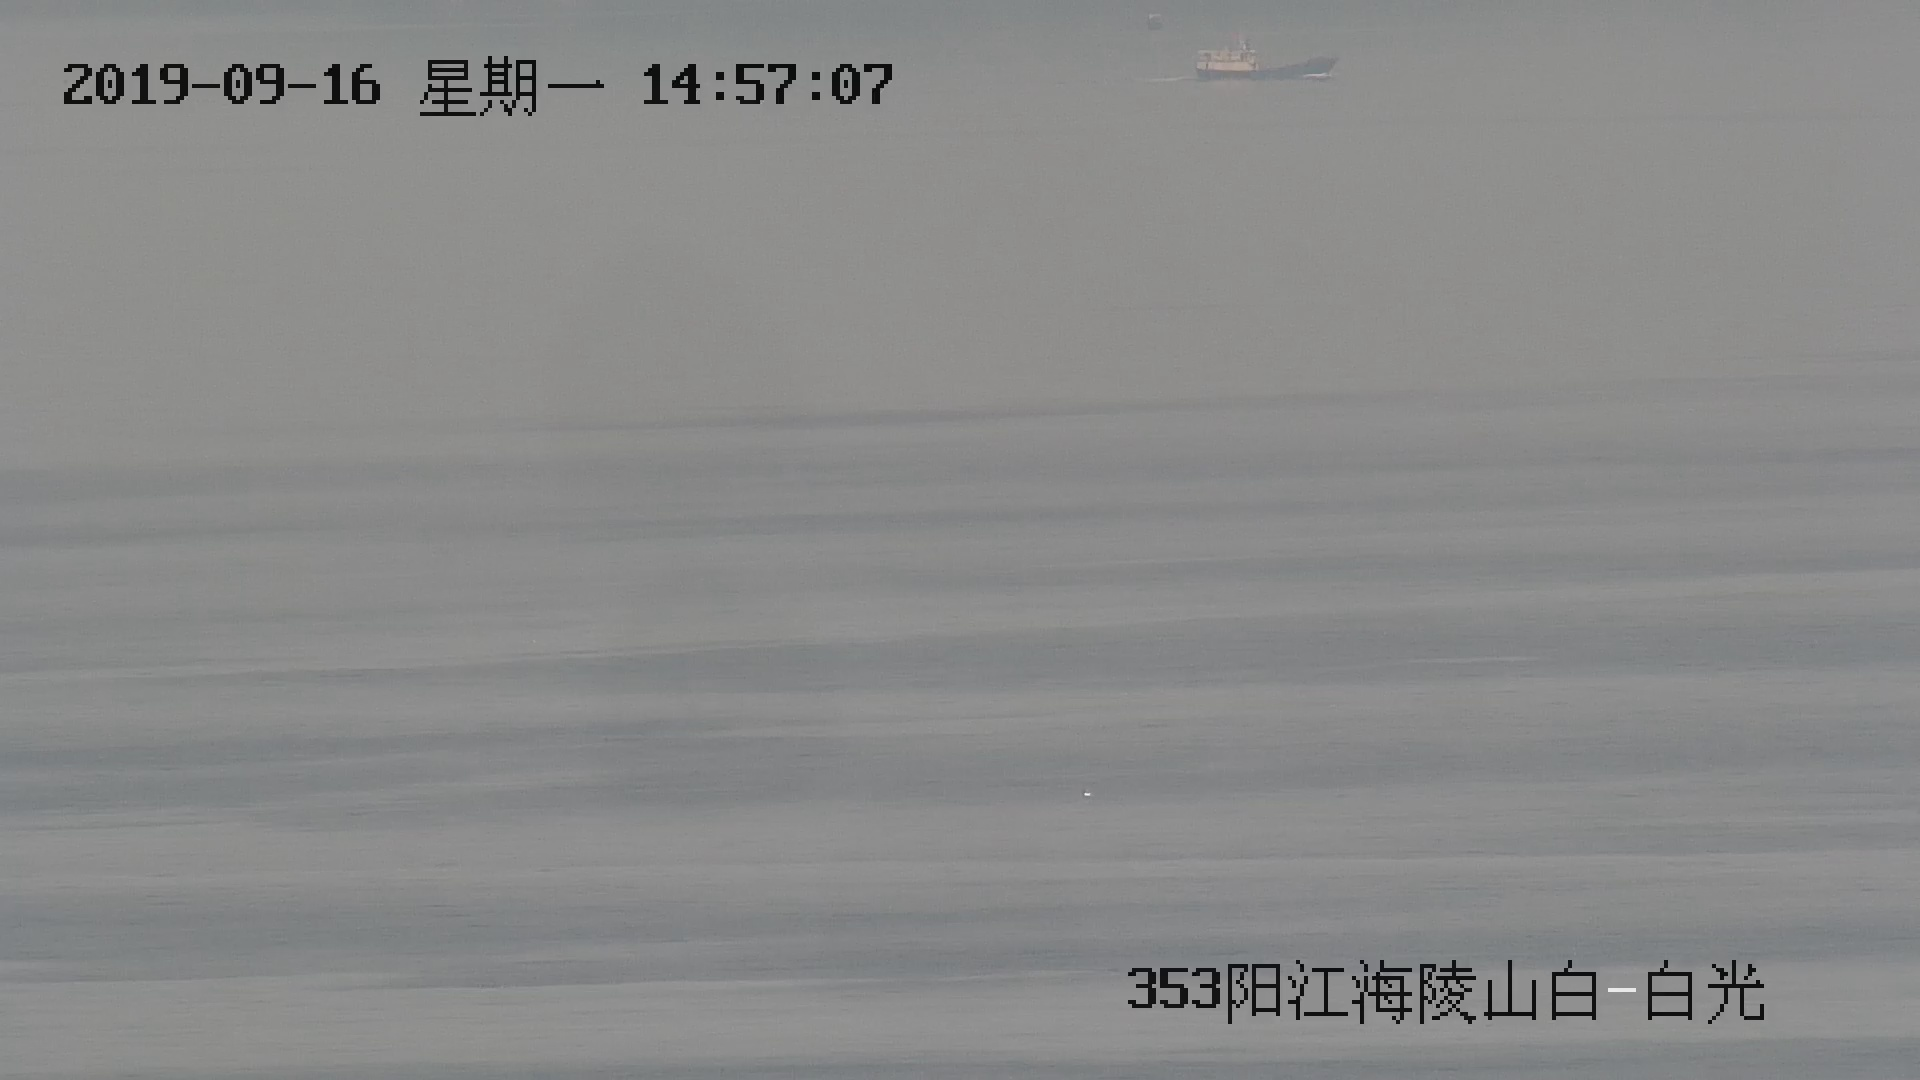ship: (1192, 40, 1335, 82)
